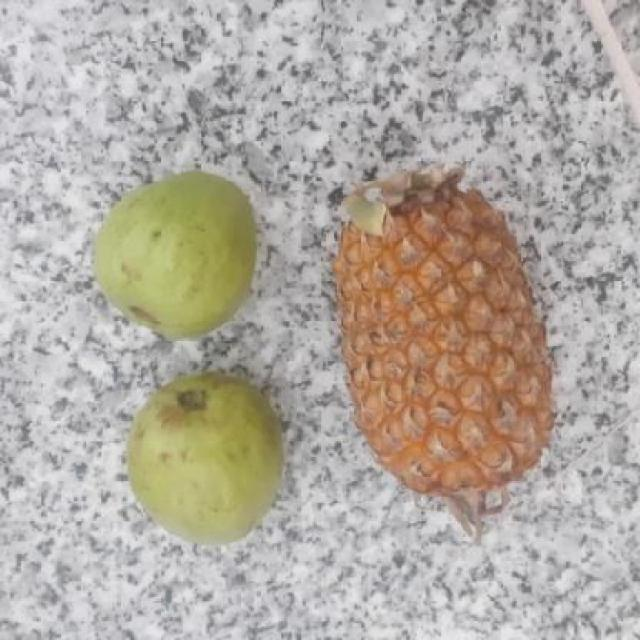guava: (120, 384, 286, 542), (88, 178, 254, 333)
pineapple: (328, 177, 552, 506)
